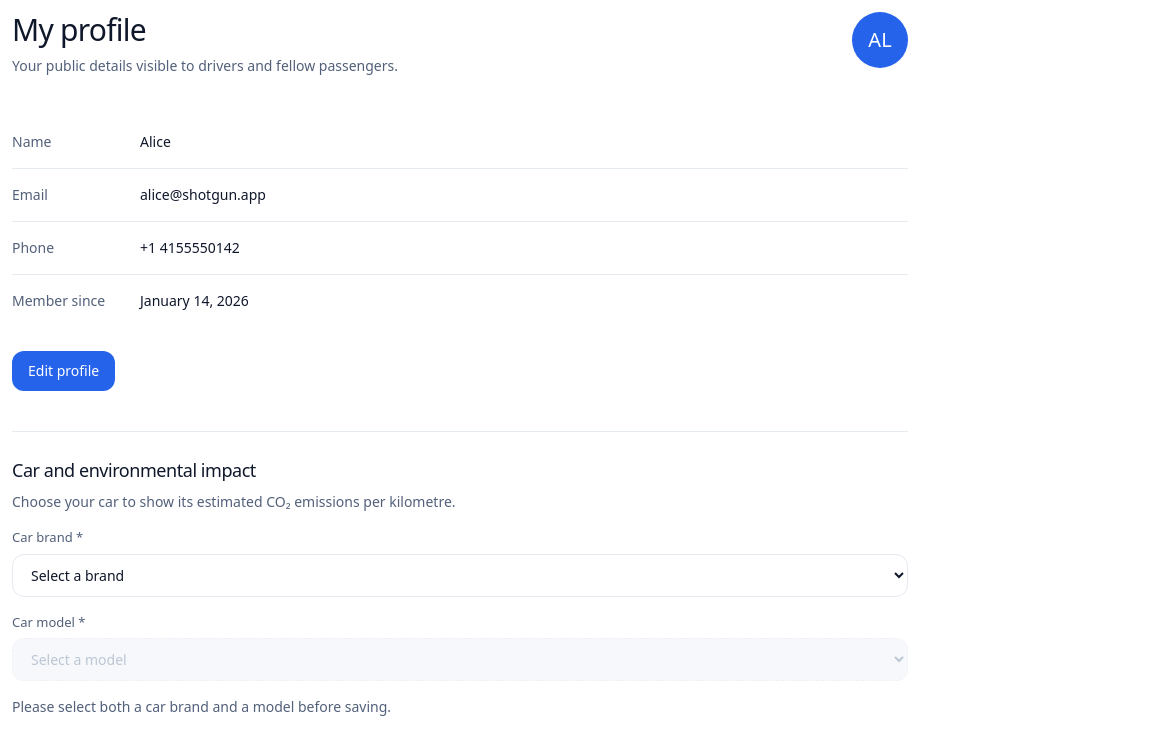
Test: ProfileView › switches to edit mode when "Edit profile" is clicked
Click the button "Edit profile": point(64, 371) [12,351,115,391]
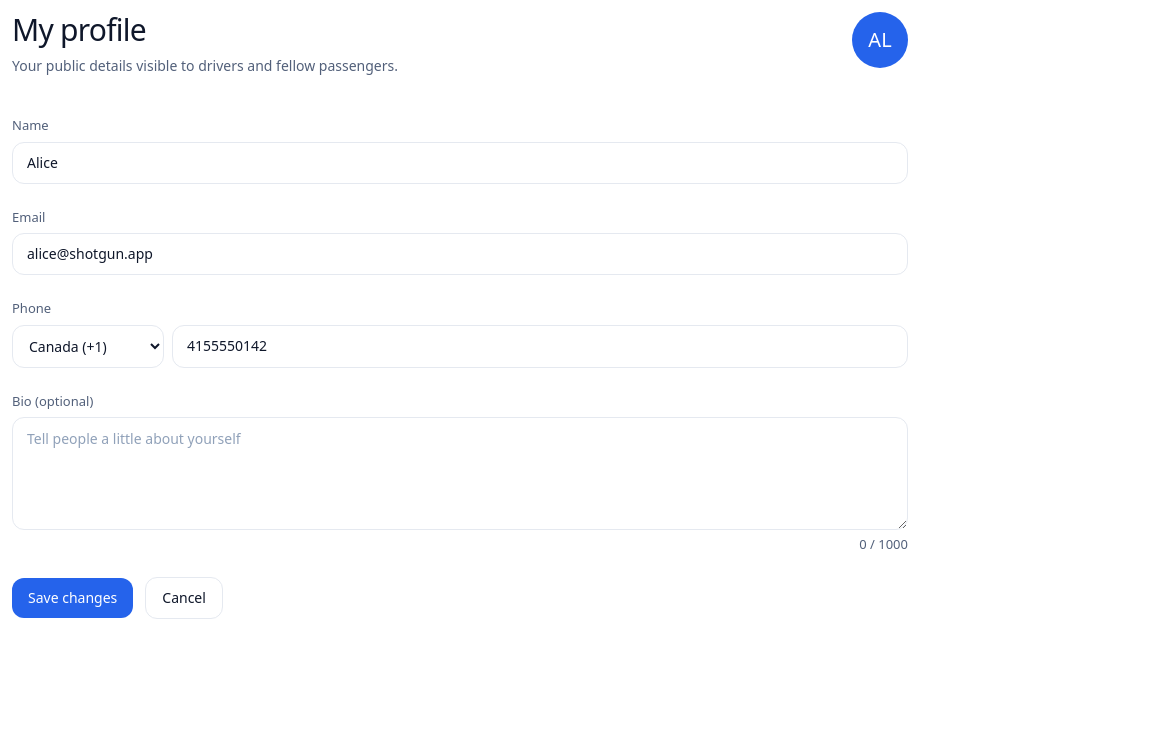
Now the form is shown, box [12,116,908,619]
